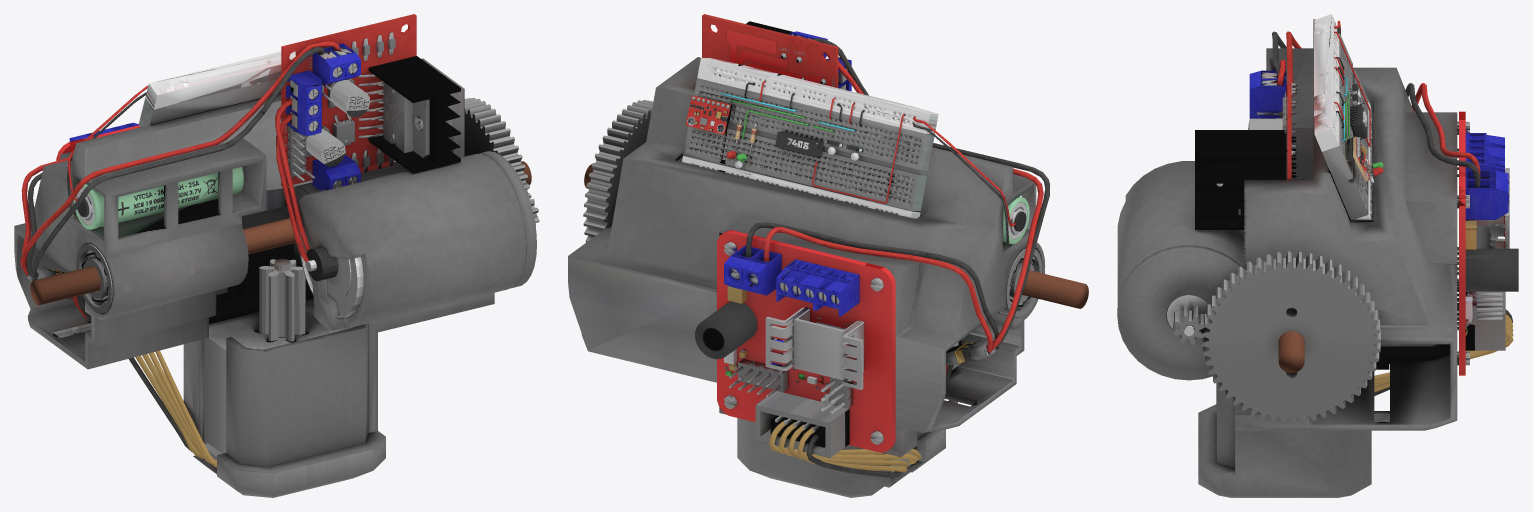
The model's file is Kugel_rerender6.glb.
3 renders of one model, left to right at view 1: azimuth 30°, elevation 25°; view 2: azimuth 150°, elevation 25°; view 3: azimuth 270°, elevation 25°, orthographic. The views are drawn at different scales.
Visible parts, largest first — view 1: Motor halter, 4.003, 4, 5.001, 4.004, 2.001, 2, 4.002, 3.003, 1, 3.002, 4.001 (+3 smaller); view 2: Motor halter, 4.005, 4.004, 5.001, 4.003, 3.002, 3.003, 1.003, 2, imagetostl_mesh11; view 3: Motor halter, 3.002, 4.005, 4.003, 3, 4.004, 5.001, 4, 4.001, 3.003, 3.001, 1.
Part boxes in pixels (x1,y1,x2,y2): Motor halter: [14, 58, 526, 497]; 4.003: [281, 14, 460, 190]; 4: [226, 323, 368, 466]; 5.001: [20, 41, 340, 467]; 4.004: [138, 51, 295, 127]; 2.001: [204, 259, 353, 460]; 2: [73, 167, 243, 229]; 4.002: [259, 259, 305, 341]; 3.003: [30, 161, 531, 305]; 1: [299, 207, 536, 318]; 3.002: [464, 98, 531, 198]; 4.001: [209, 243, 313, 324]; Motor halter: [568, 57, 1045, 497]; 4.005: [695, 230, 895, 458]; 4.004: [682, 58, 938, 219]; 5.001: [745, 35, 1049, 477]; 4.003: [702, 14, 851, 91]; 3.002: [583, 100, 653, 242]; 3.003: [584, 164, 1088, 308]; 1.003: [999, 248, 1042, 317]; 2: [1003, 196, 1029, 244]; imagetostl_mesh11: [946, 337, 998, 370]; Motor halter: [1117, 19, 1457, 497]; 3.002: [1202, 251, 1380, 423]; 4.005: [1457, 111, 1518, 375]; 4.003: [1195, 46, 1297, 229]; 3: [1117, 245, 1242, 380]; 4.004: [1314, 14, 1383, 220]; 5.001: [1269, 20, 1513, 395]; 4: [1216, 382, 1234, 468]; 4.001: [1376, 344, 1448, 369]; 3.003: [1278, 331, 1304, 372]; 3.001: [1173, 305, 1204, 344]; 1: [1166, 295, 1207, 336].
Size of the model in its own units: 1.74 by 1.41 by 1.2.
17 materials, 17 textured.
